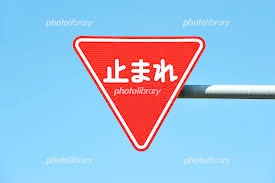Regulatory_sign_triangle: (70, 34, 207, 150)
